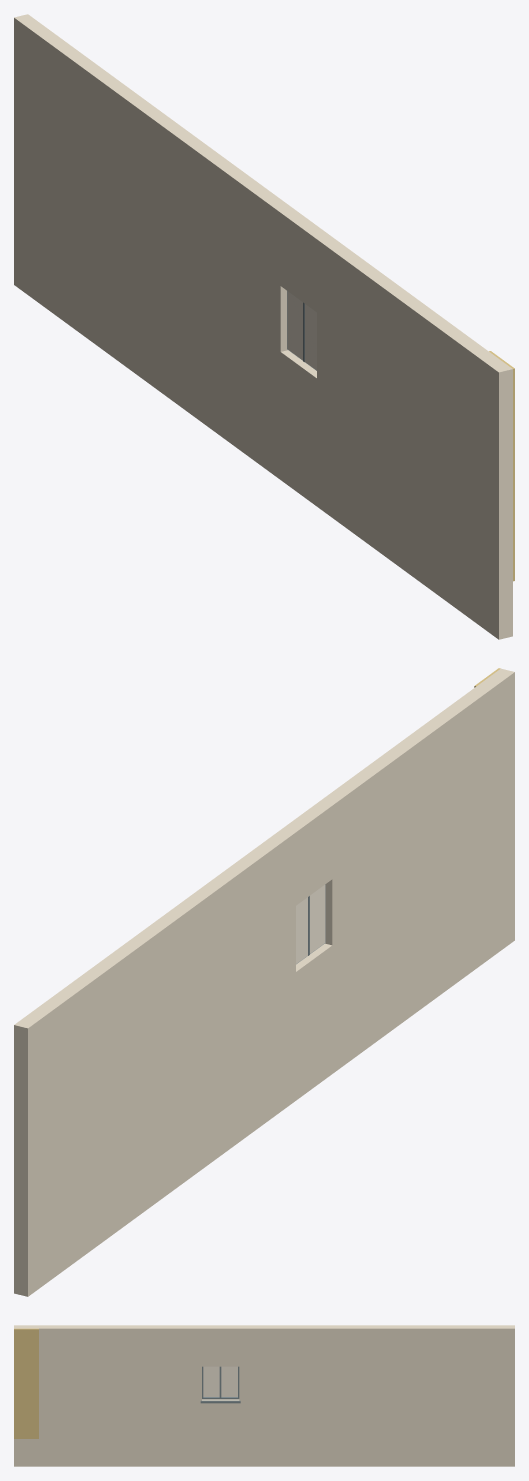
The model's file is tb_mansion_module_end_r_ground_01.fbx.
The picture shows the model from 3 angles, top to bottom: view 1: azimuth 30°, elevation 25°; view 2: azimuth 150°, elevation 25°; view 3: azimuth 270°, elevation 25°; orthographic projection. The views are drawn at different scales.
Parts seen in each view (by area): view 1: tb_mansion_module_end_r_ground_01; view 2: tb_mansion_module_end_r_ground_01; view 3: tb_mansion_module_end_r_ground_01.
Boxes of the visible parts, bbox=[...] form: tb_mansion_module_end_r_ground_01: bbox=[14, 14, 514, 639]; tb_mansion_module_end_r_ground_01: bbox=[14, 668, 514, 1296]; tb_mansion_module_end_r_ground_01: bbox=[14, 1325, 514, 1466].
Size of what is drawn, in the model's own units: 0.25 by 3.65 by 12.
2 materials, 2 textured.
